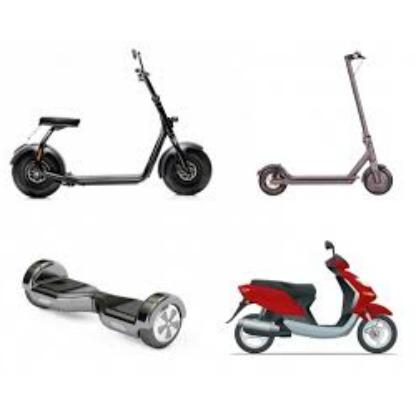bike: (9, 48, 212, 199), (226, 240, 398, 355)
